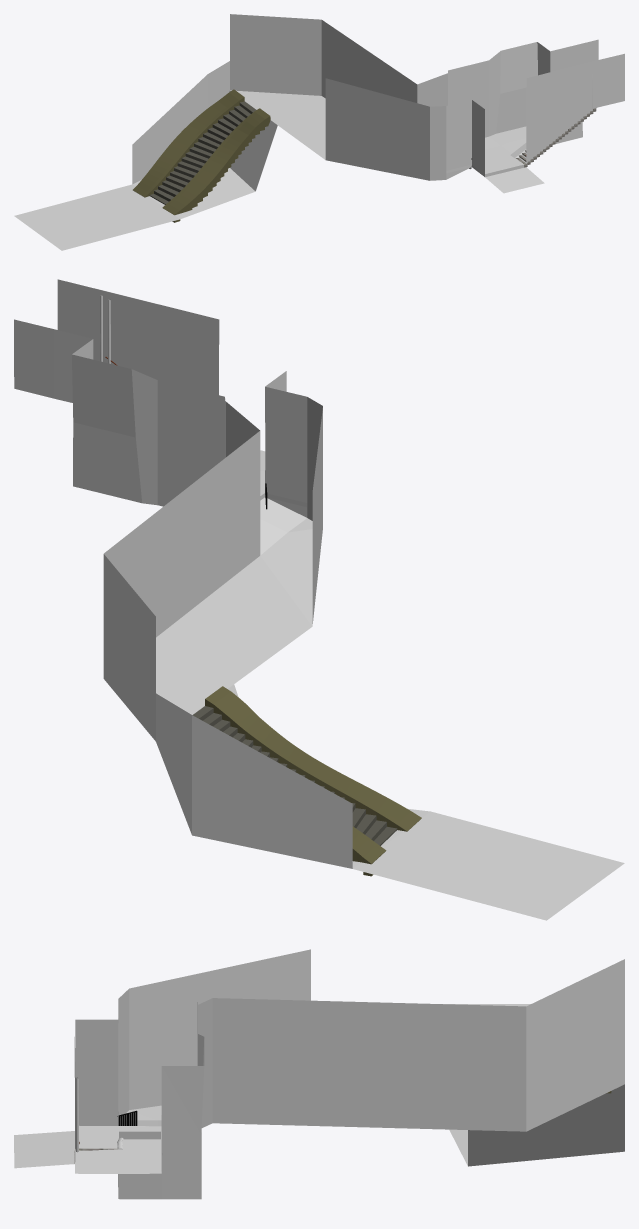
The model's file is alley.fbx.
The picture shows the model from 3 angles, top to bottom: view 1: azimuth 30°, elevation 25°; view 2: azimuth 150°, elevation 25°; view 3: azimuth 270°, elevation 25°; orthographic projection. The views are drawn at different scales.
Parts seen in each view (by area): view 1: Plane, Cube.003, Cube.001; view 2: Plane, Cube.003; view 3: Plane, Cube.
Part boxes in pixels (left/top/right/bottom): Plane: left=14, top=14, right=624, bottom=250; Cube.003: left=133, top=89, right=270, bottom=222; Cube.001: left=516, top=108, right=596, bottom=167; Plane: left=14, top=279, right=624, bottom=920; Cube.003: left=192, top=686, right=421, bottom=876; Plane: left=14, top=949, right=624, bottom=1199; Cube: left=119, top=1127, right=160, bottom=1139.
Size of the model in its own units: 6107 by 2189 by 4328.
